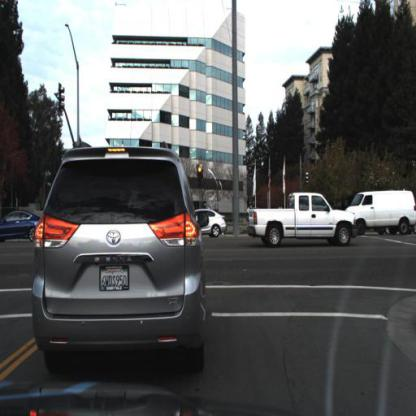car: (31, 140, 211, 374), (248, 192, 357, 249), (342, 189, 416, 238), (1, 209, 47, 246), (189, 210, 228, 239)
trafficLight-Red: (196, 162, 204, 189)
